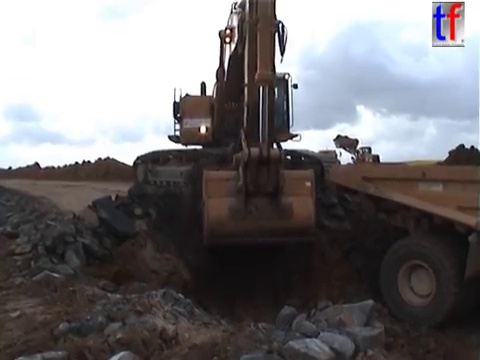excavator: (128, 1, 343, 253)
truck: (322, 160, 480, 329)
wheel loader: (331, 133, 384, 172)
